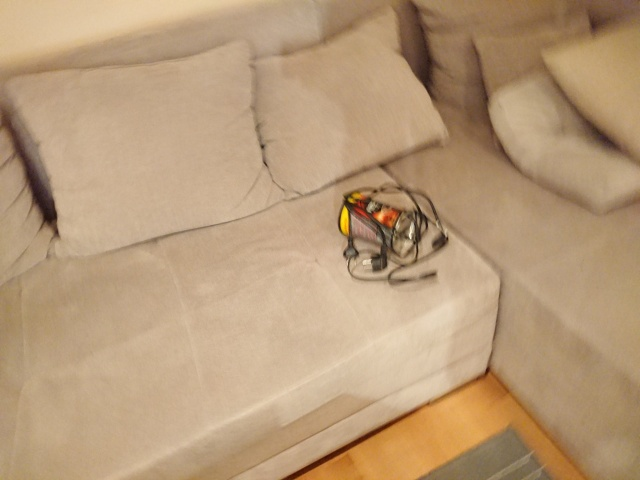Nescafe Classic 225g: (336, 189, 422, 260)
